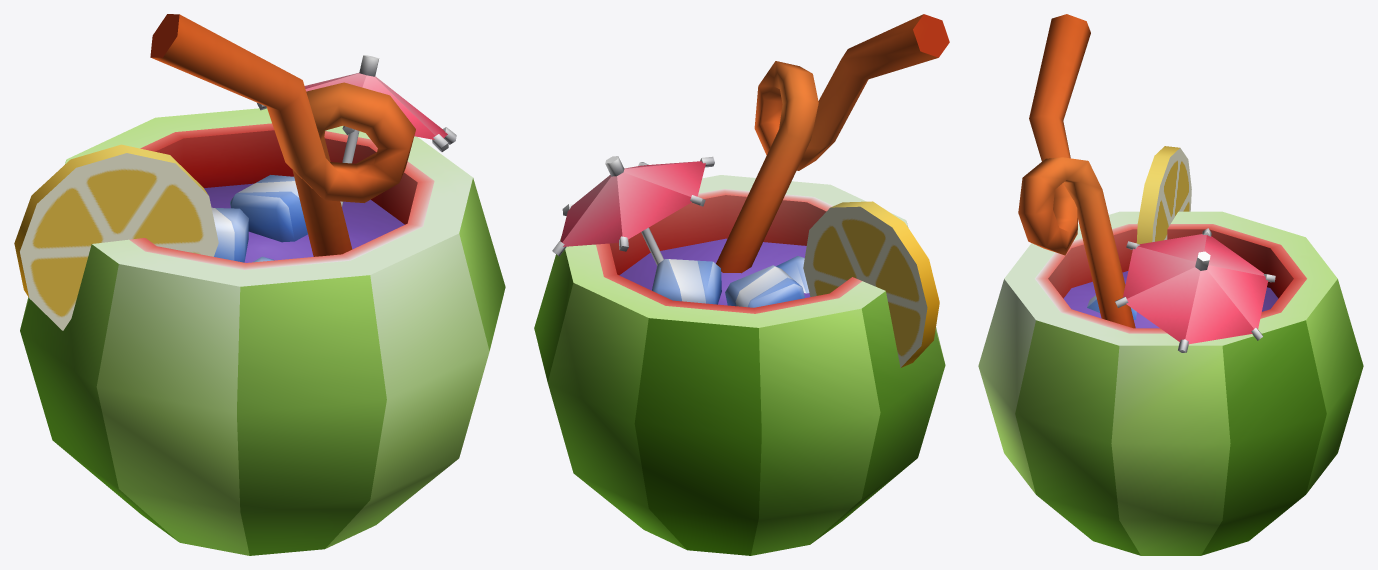
The model's file is m_WatermelonCocktail01.fbx.
3 views of the same model, side by side, from view 1: azimuth 30°, elevation 25°; view 2: azimuth 150°, elevation 25°; view 3: azimuth 270°, elevation 25° (orthographic). The views are drawn at different scales.
Parts seen in each view (by area): view 1: m_WatermelonCocktail01; view 2: m_WatermelonCocktail01; view 3: m_WatermelonCocktail01.
Part boxes in pixels (bbox=[...]): m_WatermelonCocktail01: bbox=[14, 14, 505, 555]; m_WatermelonCocktail01: bbox=[534, 14, 949, 555]; m_WatermelonCocktail01: bbox=[978, 14, 1363, 555].
Bounding box in the file's own units: 24.78 × 31.8 × 24.
